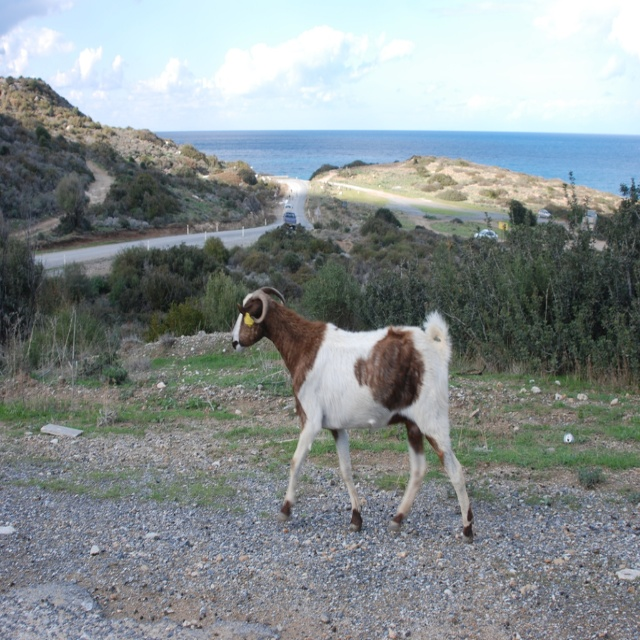Goat: (244, 291, 474, 534)
